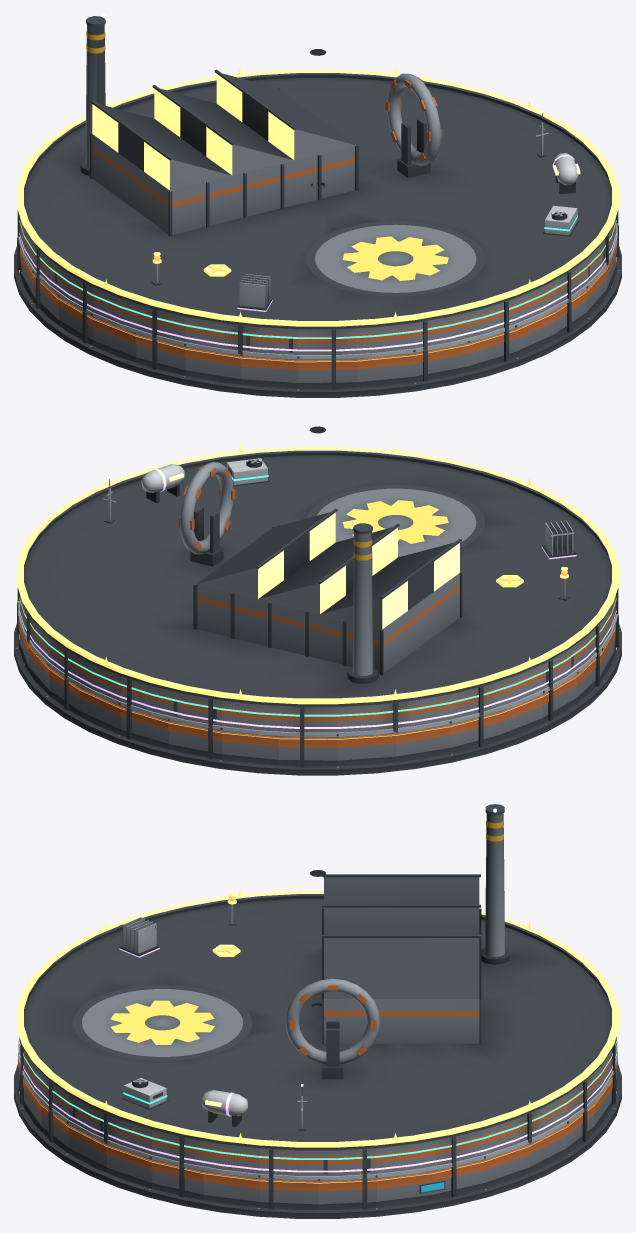
Rendered from magnet_works_xl.glb.
3 renders of one model, top to bottom at view 1: azimuth 30°, elevation 25°; view 2: azimuth 150°, elevation 25°; view 3: azimuth 270°, elevation 25°, orthographic.
Visible parts, largest first — view 1: Roof, Base, L4, Wall_21, Wall_20, Wall_22, Wall_19, Wall_23, Wall_18, Wall_24, Upper_21, Upper_22 (+18 smaller); view 2: Roof, Base, L4, Wall_10, Wall_11, Wall_09, Wall_12, Wall_08, Wall_13, Wall_07, Upper_11, Upper_10 (+20 smaller); view 3: Roof, Base, L4, Wall_00, Wall_31, Wall_30, Wall_01, Wall_29, Wall_02, Upper_31, Wall_28, Wall_03 (+16 smaller).
Boxes of the visible parts, x1,y1,x2,y2 form: Roof: [23, 14, 612, 329]; Base: [14, 246, 621, 397]; L4: [237, 153, 580, 311]; Wall_21: [298, 358, 356, 389]; Wall_20: [240, 354, 298, 388]; Wall_22: [357, 353, 414, 387]; Wall_19: [185, 347, 240, 384]; Wall_23: [414, 342, 467, 382]; Wall_18: [135, 333, 185, 375]; Wall_24: [467, 328, 515, 371]; Upper_21: [298, 328, 356, 358]; Upper_22: [357, 323, 413, 353]; Roof: [23, 426, 612, 706]; Base: [14, 624, 621, 775]; L4: [141, 464, 576, 559]; Wall_10: [279, 736, 337, 767]; Wall_11: [337, 732, 395, 766]; Wall_09: [221, 730, 278, 765]; Wall_12: [395, 724, 450, 761]; Wall_08: [168, 718, 221, 759]; Wall_13: [450, 711, 500, 753]; Wall_07: [120, 706, 168, 749]; Upper_11: [337, 702, 395, 732]; Upper_10: [279, 706, 337, 735]; Roof: [23, 804, 612, 1150]; Base: [14, 1064, 621, 1218]; L4: [119, 917, 247, 1126]; Wall_00: [318, 1178, 376, 1209]; Wall_31: [259, 1178, 317, 1209]; Wall_30: [203, 1171, 259, 1207]; Wall_01: [376, 1171, 432, 1207]; Wall_29: [151, 1159, 203, 1200]; Wall_02: [432, 1159, 484, 1200]; Upper_31: [259, 1148, 317, 1177]; Wall_28: [106, 1142, 151, 1188]; Wall_03: [484, 1144, 529, 1188].
Bounding box in the file's own units: 23.15 × 9.29 × 23.15.
